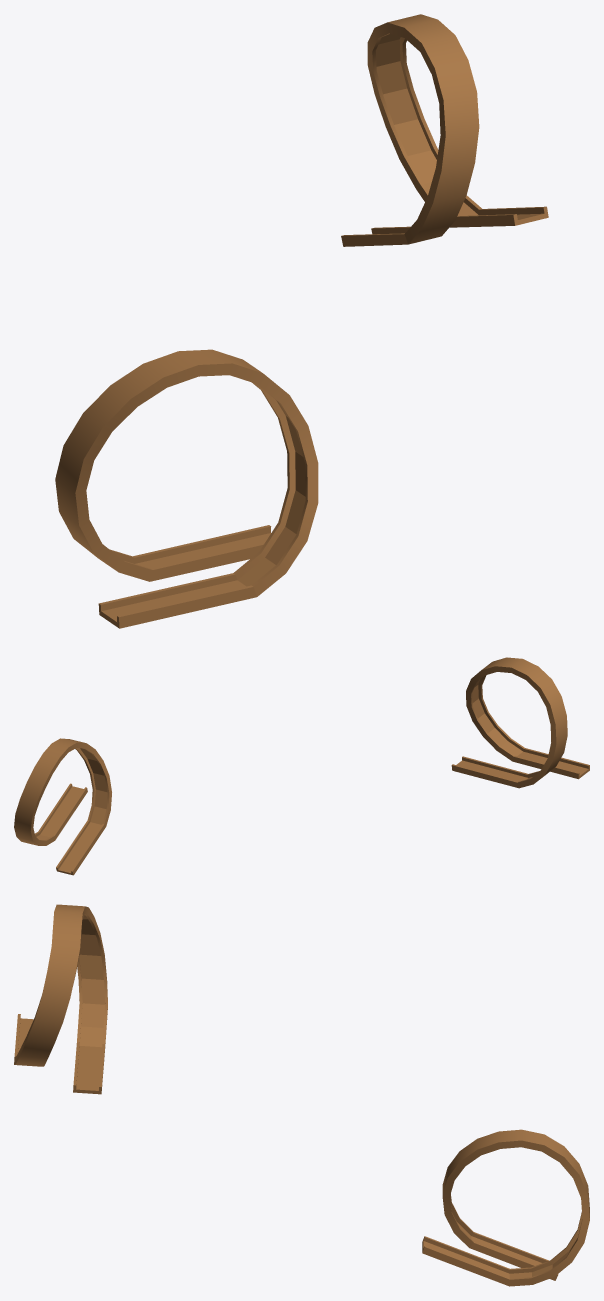
File: rampas.fbx
The picture shows the model from 3 angles, top to bottom: view 1: azimuth 30°, elevation 25°; view 2: azimuth 150°, elevation 25°; view 3: azimuth 270°, elevation 25°; orthographic projection. The views are drawn at different scales.
Parts seen in each view (by area): view 1: pCylinder3, Cosass:pCylinder3; view 2: pCylinder3, Cosass:pCylinder3; view 3: pCylinder3, Cosass:pCylinder3.
Part boxes in pixels (x1,y1,x2,y2): pCylinder3: (55,349,318,628); Cosass:pCylinder3: (341,14,548,246); pCylinder3: (451,657,589,788); Cosass:pCylinder3: (14,738,111,875); pCylinder3: (14,904,107,1094); Cosass:pCylinder3: (422,1129,589,1286).
Bounding box in the file's own units: 8.62 × 3.2 × 8.81.
